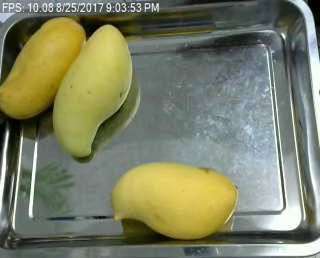Mango: (50, 22, 135, 156), (108, 162, 243, 240), (0, 13, 89, 121)
